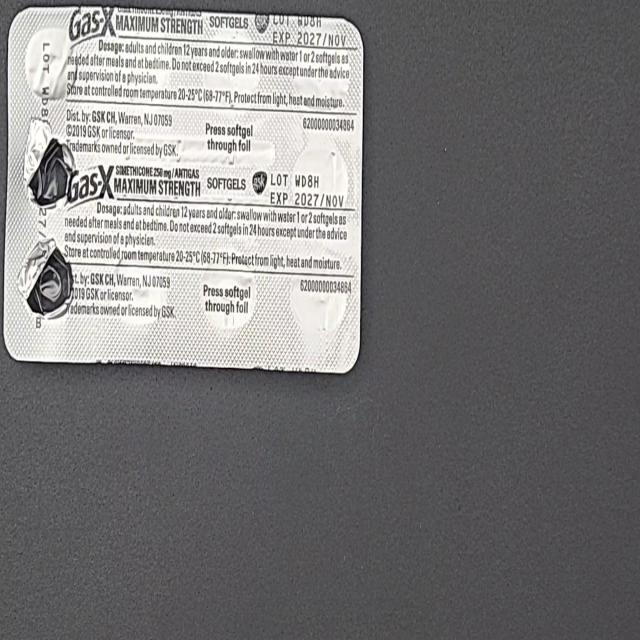defect: (21, 114, 78, 212), (15, 234, 76, 321)
